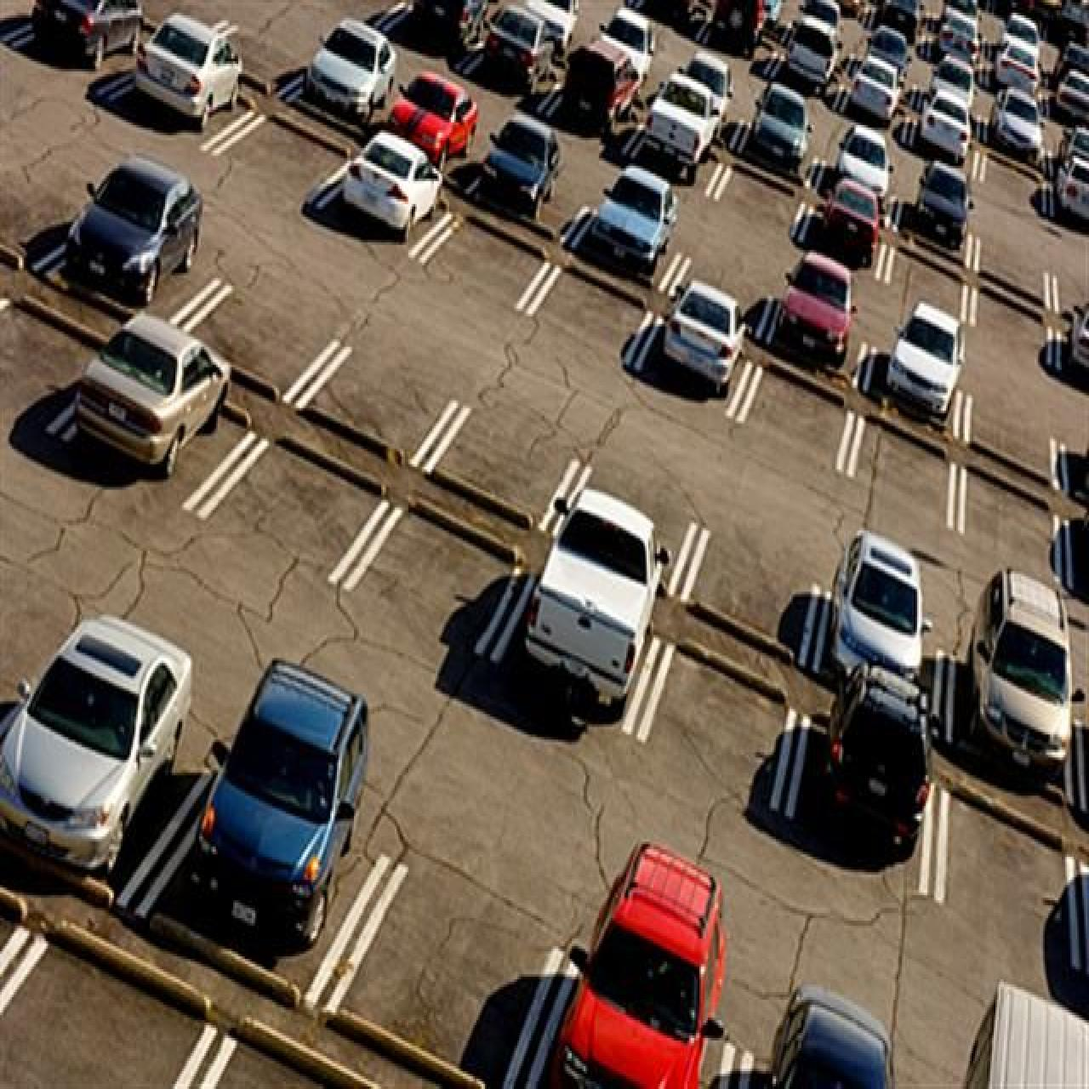cars: (2, 644, 175, 897), (161, 742, 384, 938), (541, 959, 710, 1089), (83, 358, 225, 504), (792, 724, 925, 865), (517, 580, 641, 710), (949, 645, 1055, 775), (68, 203, 172, 313), (838, 565, 930, 672), (130, 38, 225, 135), (581, 190, 671, 290), (650, 311, 742, 405), (20, 8, 135, 77), (334, 149, 425, 236), (870, 335, 962, 419), (773, 284, 856, 376), (300, 43, 392, 125), (487, 140, 570, 227), (396, 94, 474, 181), (636, 108, 716, 190), (476, 24, 557, 101), (559, 68, 630, 142), (809, 194, 881, 265), (734, 112, 807, 176), (399, 0, 474, 59), (896, 191, 961, 255), (824, 149, 888, 203), (581, 38, 649, 84), (671, 68, 734, 116), (907, 116, 972, 154), (776, 43, 832, 87), (705, 22, 761, 65), (988, 111, 1044, 152), (851, 51, 914, 84), (915, 80, 972, 116), (843, 78, 898, 114), (926, 34, 980, 65), (787, 24, 835, 57), (1053, 176, 1089, 220), (989, 59, 1034, 92), (991, 27, 1035, 60), (1048, 54, 1089, 84), (1050, 129, 1089, 160), (1052, 92, 1089, 123)
empty: (362, 868, 532, 1057), (232, 453, 356, 578), (654, 653, 763, 781), (325, 330, 430, 453), (447, 393, 549, 513), (952, 824, 1068, 928), (219, 103, 334, 205), (368, 544, 503, 629), (853, 409, 957, 516), (708, 536, 805, 650), (206, 280, 306, 390), (588, 454, 683, 569), (426, 207, 532, 306), (539, 268, 636, 365), (959, 479, 1059, 571), (0, 315, 87, 417), (966, 382, 1055, 477), (761, 363, 838, 470), (678, 233, 760, 325), (723, 165, 796, 241), (892, 251, 961, 320), (977, 292, 1043, 358), (975, 228, 1040, 292), (977, 149, 1043, 190)
